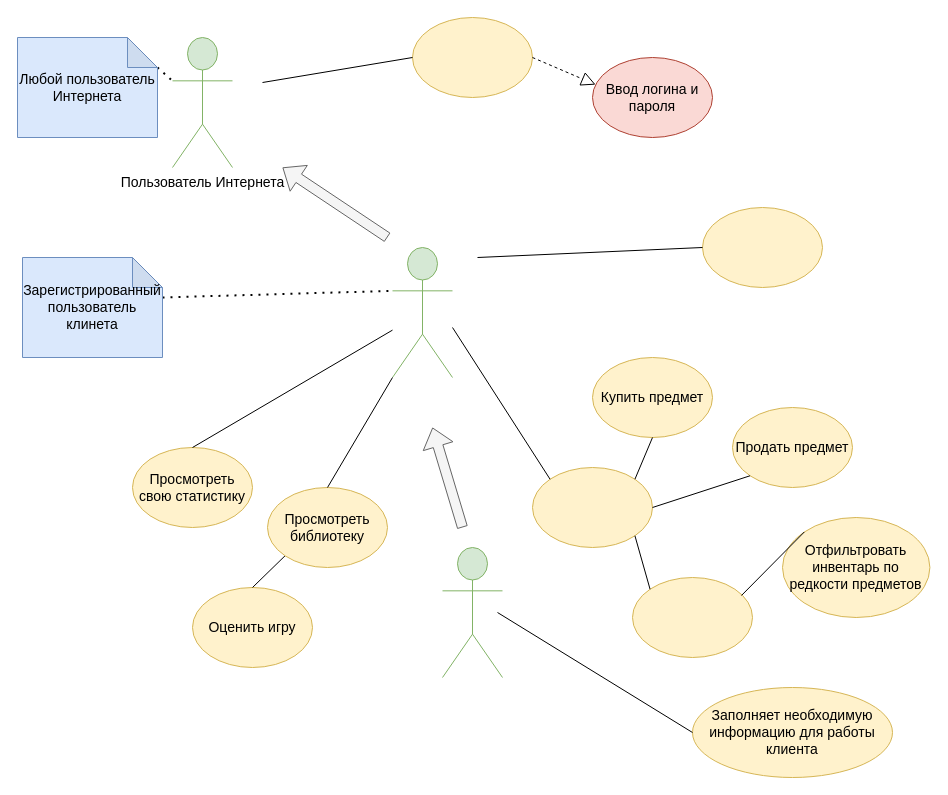
Image size: 948x795. Some labels were removed from this diagram. The shapes that lost their labels are listed below. From the top down, each one's centre as x and y in pixels, then its label:
the point at 472,57: Регистрироваться
the point at 762,247: Купить игру
the point at 422,312: Зарегистрированный пользователь
the point at 592,507: Просмотреть инвентарь
the point at 472,612: Администратор клиента
the point at 692,617: Узнать стоимость своего инвентаря
